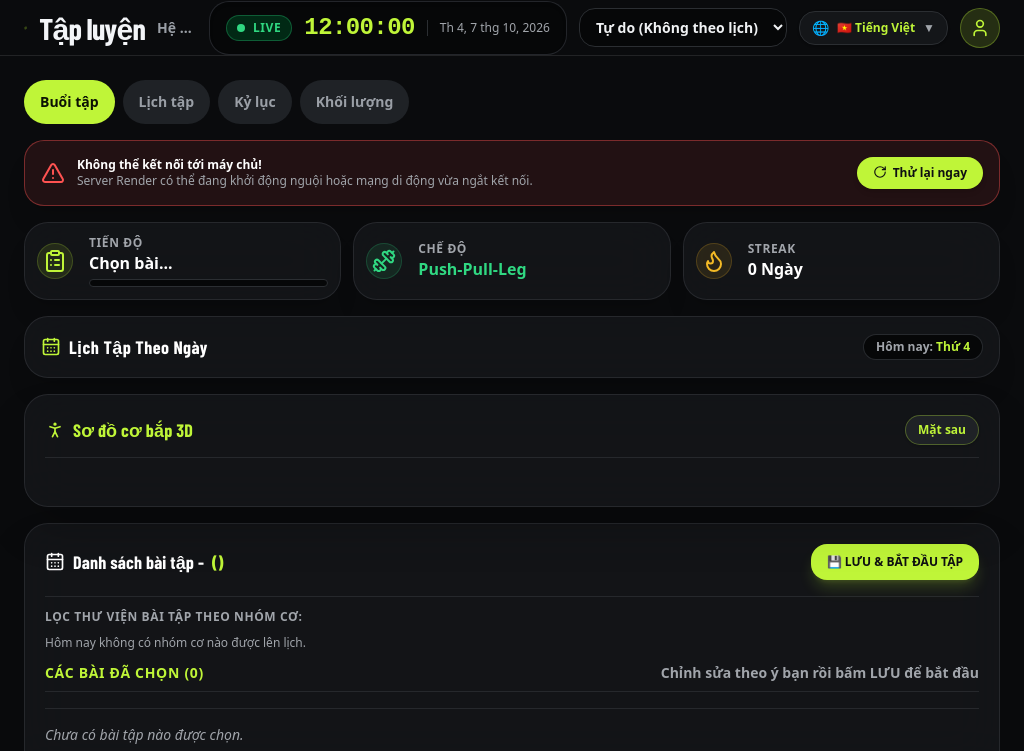
Scenario: Workouts: loading problems › if routines/exercises cannot be loaded a retry banner appears, and retrying recovers
This screenshot has width=1024, height=751.
Expected: the text "Không thể kết nối tới máy chủ!" is shown, top-left (77, 156), bottom-right (262, 173)
Click the button "Thử lại ngay" at (920,173), box top-left (857, 157), bottom-right (983, 189)
(page scrolled)
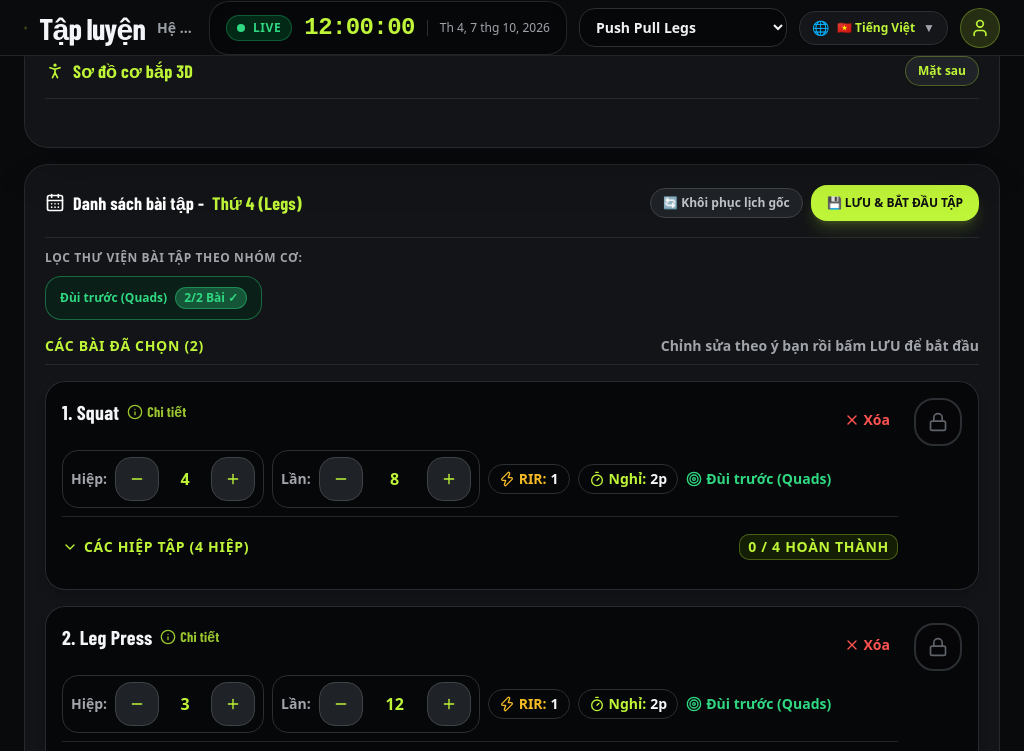
Now the text "1. Squat" is shown, box top-left (62, 398), bottom-right (119, 426)
Now the text "Không thể kết nối tới máy chủ!" is gone
